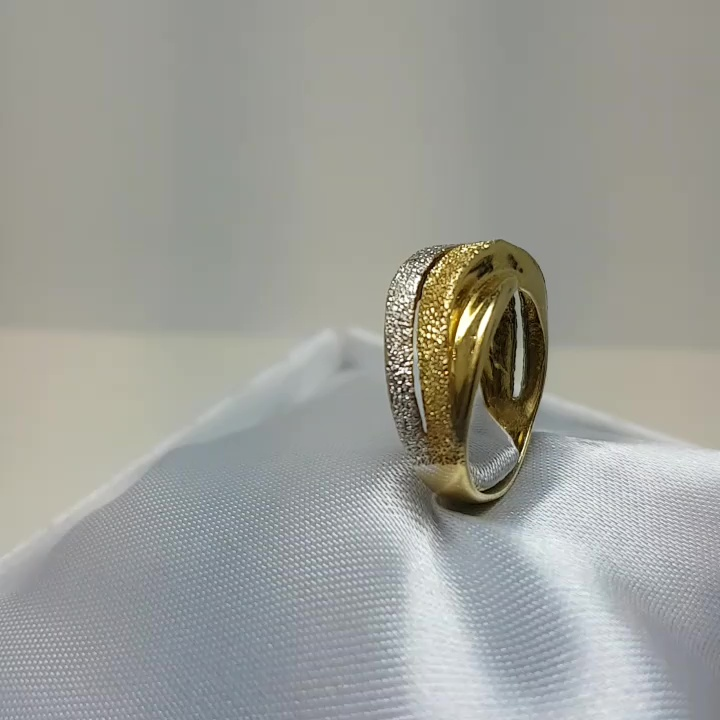Ring 5: (317, 212, 575, 524)
